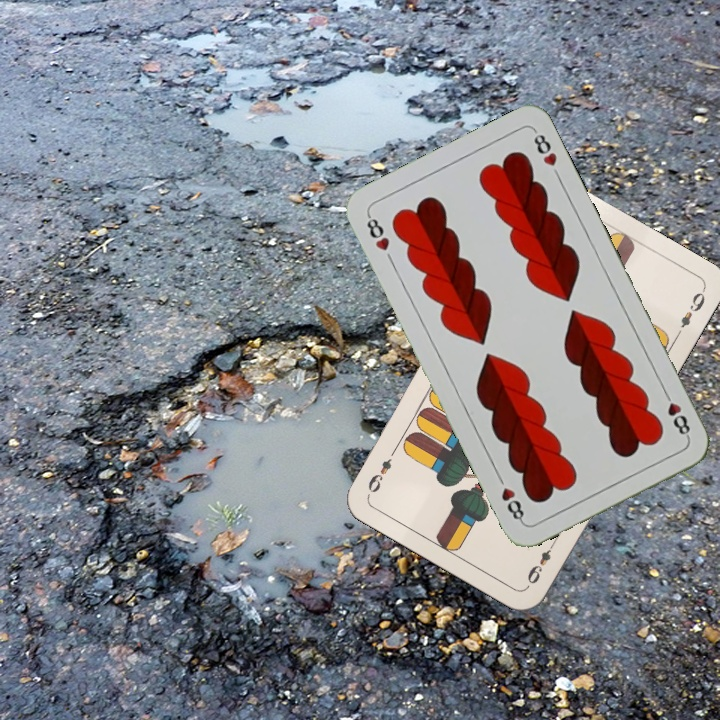E9: (523, 535, 559, 589)
H8: (659, 386, 693, 441), (362, 210, 392, 254)
